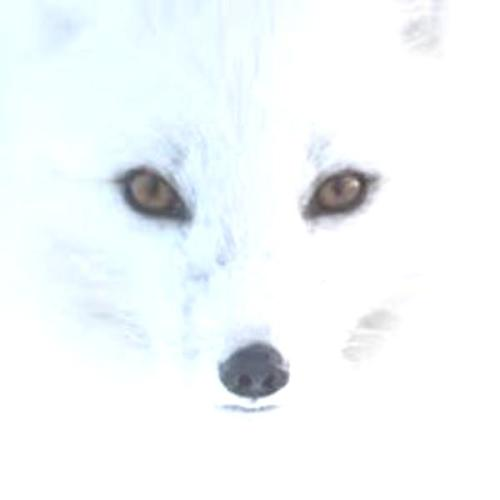arctic_fox-endangered: (34, 6, 441, 414)
